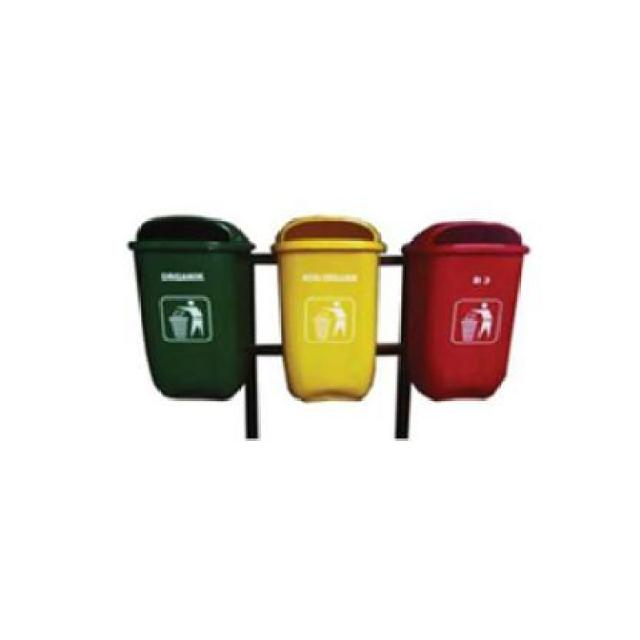garbage container: (389, 207, 537, 425), (118, 213, 273, 421), (262, 208, 395, 415)
